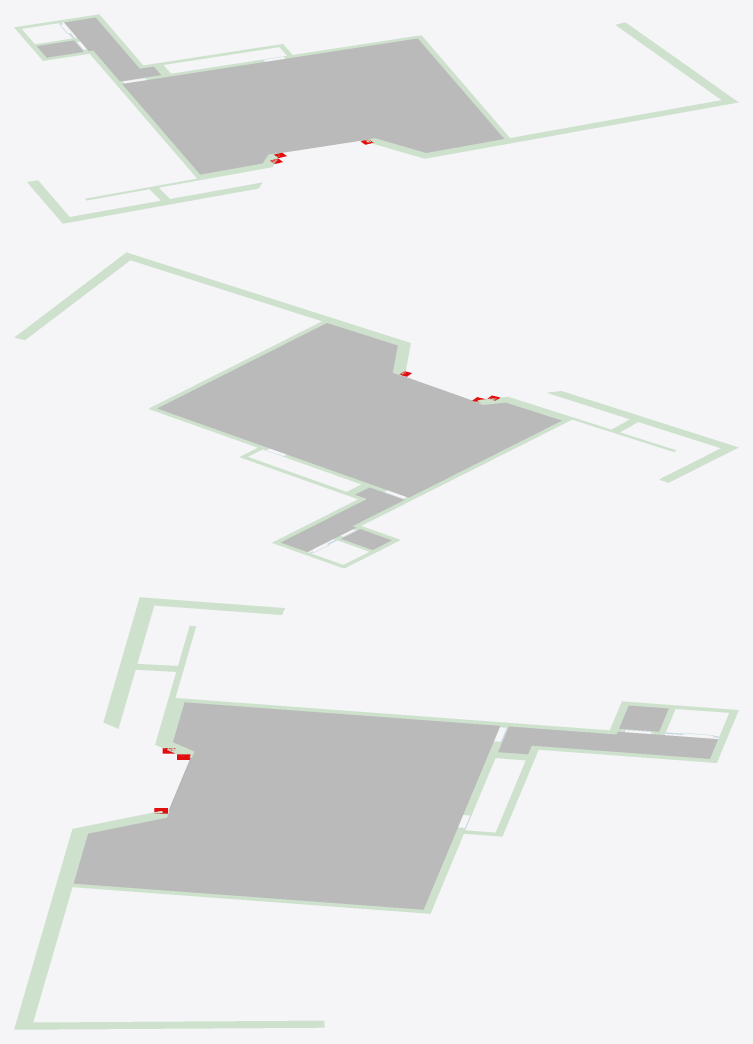
Rendered from floor-487900.glb.
3 views of the same model, one above another, from view 1: azimuth 30°, elevation 25°; view 2: azimuth 150°, elevation 25°; view 3: azimuth 270°, elevation 25° (orthographic). The views are drawn at different scales.
Parts seen in each view (by area): view 1: SectionBody_6,9262e225-3d3e-4223-af8c-39a43748f051, SectionBody_48,79dacf31-d170-4d42-8cd6-e2502d9dd912, SectionBody_7,f5be9884-1ec4-4bdf-83fe-4a4f57898bca, SectionBody_41,188ced9f-8953-4fa2-9da6-4d38ebbba89a, SectionBody_17,817ea7ed-bc4a-429e-8aee-e4c509cef56e, SectionBody_39,56e9920e-9171-40fc-aef1-674cbf696aba, SectionBody_43,97a04eb2-c051-4e70-8a77-125c31b0593a, SectionBody_42,411345c2-e148-4ff6-b8ca-cf33021b04e4, SectionBody_36,4a787c18-0a65-4c3d-a247-b4a747b72b2c, SectionBody_40,5d698d65-98b9-433e-8304-2e90b4b09615, SectionBody_18,f6f1b012-7715-42a3-9133-fb42fe1856f1, SectionBody_15,773b7b34-930c-4fec-8f25-2490a8cc6f6e (+2 smaller); view 2: SectionBody_6,9262e225-3d3e-4223-af8c-39a43748f051, SectionBody_48,79dacf31-d170-4d42-8cd6-e2502d9dd912, SectionBody_7,f5be9884-1ec4-4bdf-83fe-4a4f57898bca, SectionBody_41,188ced9f-8953-4fa2-9da6-4d38ebbba89a, SectionBody_17,817ea7ed-bc4a-429e-8aee-e4c509cef56e, SectionBody_39,56e9920e-9171-40fc-aef1-674cbf696aba, SectionBody_43,97a04eb2-c051-4e70-8a77-125c31b0593a, SectionBody_36,4a787c18-0a65-4c3d-a247-b4a747b72b2c, SectionBody_42,411345c2-e148-4ff6-b8ca-cf33021b04e4; view 3: SectionBody_6,9262e225-3d3e-4223-af8c-39a43748f051, SectionBody_48,79dacf31-d170-4d42-8cd6-e2502d9dd912, SectionBody_7,f5be9884-1ec4-4bdf-83fe-4a4f57898bca, SectionBody_17,817ea7ed-bc4a-429e-8aee-e4c509cef56e, SectionBody_41,188ced9f-8953-4fa2-9da6-4d38ebbba89a, SectionBody_39,56e9920e-9171-40fc-aef1-674cbf696aba, SectionBody_43,97a04eb2-c051-4e70-8a77-125c31b0593a, SectionBody_36,4a787c18-0a65-4c3d-a247-b4a747b72b2c, SectionBody_42,411345c2-e148-4ff6-b8ca-cf33021b04e4, SectionBody_40,5d698d65-98b9-433e-8304-2e90b4b09615, SectionBody_50,ffc838d8-f05f-4896-900f-1263455c88a6, SectionBody_18,f6f1b012-7715-42a3-9133-fb42fe1856f1 (+2 smaller).
Boxes of the visible parts, x1=… form: SectionBody_6,9262e225-3d3e-4223-af8c-39a43748f051: x1=122, y1=38, x2=503, y2=174; SectionBody_48,79dacf31-d170-4d42-8cd6-e2502d9dd912: x1=64, y1=17, x2=160, y2=81; SectionBody_7,f5be9884-1ec4-4bdf-83fe-4a4f57898bca: x1=413, y1=98, x2=738, y2=158; SectionBody_41,188ced9f-8953-4fa2-9da6-4d38ebbba89a: x1=59, y1=182, x2=262, y2=223; SectionBody_17,817ea7ed-bc4a-429e-8aee-e4c509cef56e: x1=615, y1=22, x2=731, y2=99; SectionBody_39,56e9920e-9171-40fc-aef1-674cbf696aba: x1=90, y1=53, x2=199, y2=175; SectionBody_43,97a04eb2-c051-4e70-8a77-125c31b0593a: x1=416, y1=35, x2=509, y2=138; SectionBody_42,411345c2-e148-4ff6-b8ca-cf33021b04e4: x1=37, y1=40, x2=83, y2=57; SectionBody_36,4a787c18-0a65-4c3d-a247-b4a747b72b2c: x1=27, y1=180, x2=69, y2=218; SectionBody_40,5d698d65-98b9-433e-8304-2e90b4b09615: x1=138, y1=44, x2=284, y2=68; SectionBody_18,f6f1b012-7715-42a3-9133-fb42fe1856f1: x1=287, y1=36, x2=417, y2=57; SectionBody_15,773b7b34-930c-4fec-8f25-2490a8cc6f6e: x1=120, y1=56, x2=288, y2=83; SectionBody_6,9262e225-3d3e-4223-af8c-39a43748f051: x1=157, y1=323, x2=561, y2=497; SectionBody_48,79dacf31-d170-4d42-8cd6-e2502d9dd912: x1=281, y1=487, x2=404, y2=551; SectionBody_7,f5be9884-1ec4-4bdf-83fe-4a4f57898bca: x1=121, y1=252, x2=410, y2=349; SectionBody_41,188ced9f-8953-4fa2-9da6-4d38ebbba89a: x1=547, y1=391, x2=738, y2=451; SectionBody_17,817ea7ed-bc4a-429e-8aee-e4c509cef56e: x1=14, y1=257, x2=129, y2=339; SectionBody_39,56e9920e-9171-40fc-aef1-674cbf696aba: x1=357, y1=420, x2=566, y2=525; SectionBody_43,97a04eb2-c051-4e70-8a77-125c31b0593a: x1=148, y1=321, x2=326, y2=410; SectionBody_36,4a787c18-0a65-4c3d-a247-b4a747b72b2c: x1=659, y1=448, x2=730, y2=482; SectionBody_42,411345c2-e148-4ff6-b8ca-cf33021b04e4: x1=341, y1=529, x2=391, y2=549; SectionBody_6,9262e225-3d3e-4223-af8c-39a43748f051: x1=73, y1=702, x2=499, y2=909; SectionBody_48,79dacf31-d170-4d42-8cd6-e2502d9dd912: x1=498, y1=726, x2=717, y2=758; SectionBody_7,f5be9884-1ec4-4bdf-83fe-4a4f57898bca: x1=14, y1=825, x2=90, y2=1029; SectionBody_17,817ea7ed-bc4a-429e-8aee-e4c509cef56e: x1=31, y1=1020, x2=324, y2=1029; SectionBody_41,188ced9f-8953-4fa2-9da6-4d38ebbba89a: x1=103, y1=597, x2=156, y2=728; SectionBody_39,56e9920e-9171-40fc-aef1-674cbf696aba: x1=184, y1=698, x2=609, y2=733; SectionBody_43,97a04eb2-c051-4e70-8a77-125c31b0593a: x1=72, y1=883, x2=431, y2=913; SectionBody_36,4a787c18-0a65-4c3d-a247-b4a747b72b2c: x1=154, y1=598, x2=284, y2=614; SectionBody_42,411345c2-e148-4ff6-b8ca-cf33021b04e4: x1=619, y1=705, x2=668, y2=731; SectionBody_40,5d698d65-98b9-433e-8304-2e90b4b09615: x1=494, y1=745, x2=539, y2=836; SectionBody_50,ffc838d8-f05f-4896-900f-1263455c88a6: x1=539, y1=746, x2=717, y2=762; SectionBody_18,f6f1b012-7715-42a3-9133-fb42fe1856f1: x1=424, y1=829, x2=465, y2=910.
Size of the model in its own units: 30107 by 0 by 21325.
